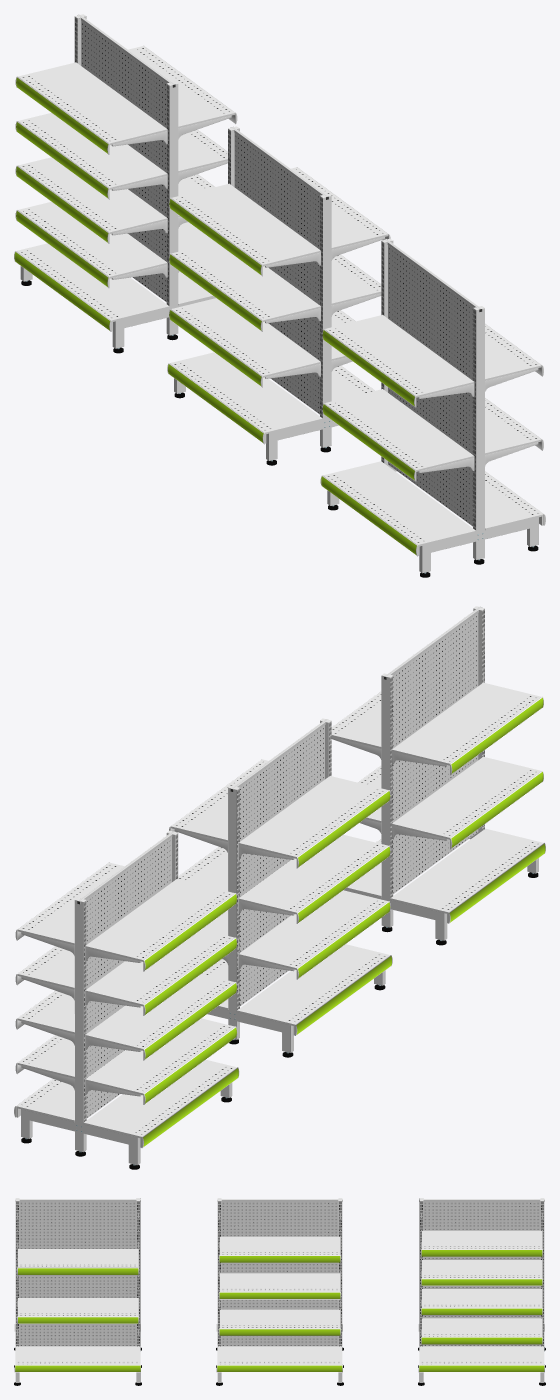
3 views of the same model, one above another, from view 1: azimuth 30°, elevation 25°; view 2: azimuth 150°, elevation 25°; view 3: azimuth 270°, elevation 25° (orthographic). The views are drawn at different scales.
Parts seen in each view (by area): view 1: grocery_shelf_base (×3), grocery_shelves002_mat_shelf_0 (×3), grocery_shelves001_mat_shelf_0 (×3), grocery_shelves003_mat_shelf_0 (×2), grocery_shelves004_mat_shelf_0, grocery_shelves002_mat_shelf_glass_0 (×3), grocery_shelves001_mat_shelf_glass_0 (×3), grocery_shelves003_mat_shelf_glass_0 (×2), grocery_shelves004_mat_shelf_glass_0; view 2: grocery_shelf_base (×3), grocery_shelves002_mat_shelf_0 (×3), grocery_shelves001_mat_shelf_0 (×3), grocery_shelves003_mat_shelf_0 (×2), grocery_shelves004_mat_shelf_0, grocery_shelves001_mat_shelf_glass_0 (×3), grocery_shelves002_mat_shelf_glass_0 (×3), grocery_shelves003_mat_shelf_glass_0 (×2), grocery_shelves004_mat_shelf_glass_0; view 3: grocery_shelf_base (×3), grocery_shelves001_mat_shelf_0 (×3), grocery_shelves002_mat_shelf_0 (×3), grocery_shelves003_mat_shelf_0 (×2), grocery_shelves001_mat_shelf_glass_0 (×3), grocery_shelves002_mat_shelf_glass_0 (×3), grocery_shelves004_mat_shelf_0, grocery_shelves003_mat_shelf_glass_0 (×2), grocery_shelves004_mat_shelf_glass_0.
Part boxes in pixels (box(x1,y1,x2,y2)): grocery_shelf_base (×3): box(14, 14, 545, 577); grocery_shelves002_mat_shelf_0 (×3): box(15, 157, 543, 407); grocery_shelves001_mat_shelf_0 (×3): box(15, 201, 543, 481); grocery_shelves003_mat_shelf_0 (×2): box(15, 113, 390, 276); grocery_shelves004_mat_shelf_0: box(15, 45, 237, 154); grocery_shelves002_mat_shelf_glass_0 (×3): box(16, 166, 414, 405); grocery_shelves001_mat_shelf_glass_0 (×3): box(16, 211, 414, 480); grocery_shelves003_mat_shelf_glass_0 (×2): box(16, 122, 261, 274); grocery_shelves004_mat_shelf_glass_0: box(16, 77, 108, 153); grocery_shelf_base (×3): box(14, 606, 545, 1169); grocery_shelves002_mat_shelf_0 (×3): box(15, 682, 543, 1060); grocery_shelves001_mat_shelf_0 (×3): box(15, 756, 543, 1104); grocery_shelves003_mat_shelf_0 (×2): box(15, 759, 390, 1015); grocery_shelves004_mat_shelf_0: box(15, 862, 237, 971); grocery_shelves001_mat_shelf_glass_0 (×3): box(144, 772, 543, 1103); grocery_shelves002_mat_shelf_glass_0 (×3): box(145, 698, 543, 1058); grocery_shelves003_mat_shelf_glass_0 (×2): box(144, 791, 390, 1014); grocery_shelves004_mat_shelf_glass_0: box(144, 894, 236, 969); grocery_shelf_base (×3): box(14, 1198, 545, 1385); grocery_shelves001_mat_shelf_0 (×3): box(17, 1298, 542, 1344); grocery_shelves002_mat_shelf_0 (×3): box(17, 1249, 542, 1315); grocery_shelves003_mat_shelf_0 (×2): box(219, 1236, 542, 1285); grocery_shelves001_mat_shelf_glass_0 (×3): box(18, 1317, 542, 1344); grocery_shelves002_mat_shelf_glass_0 (×3): box(18, 1268, 542, 1314); grocery_shelves004_mat_shelf_0: box(421, 1230, 542, 1256); grocery_shelves003_mat_shelf_glass_0 (×2): box(219, 1256, 542, 1285); grocery_shelves004_mat_shelf_glass_0: box(421, 1250, 542, 1256).
Bounding box in the file's own units: 0.7326 × 1.37 × 3.95.
Materials: 2 (1 with a texture image).
